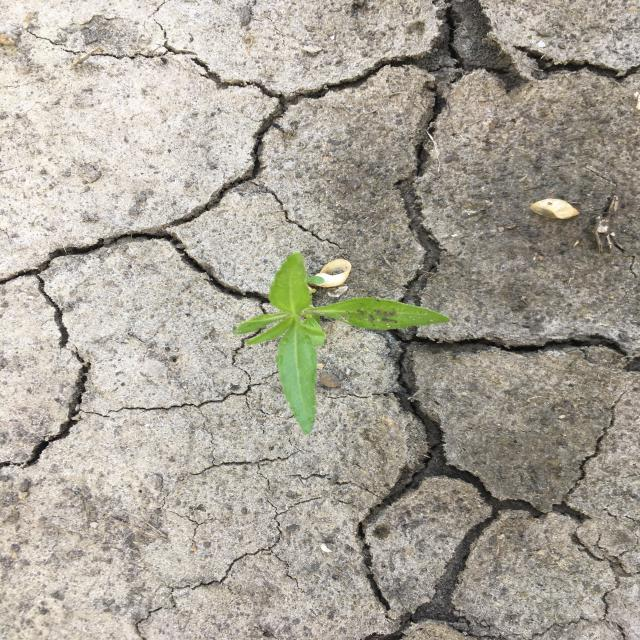Eclipta: (232, 250, 452, 437)
